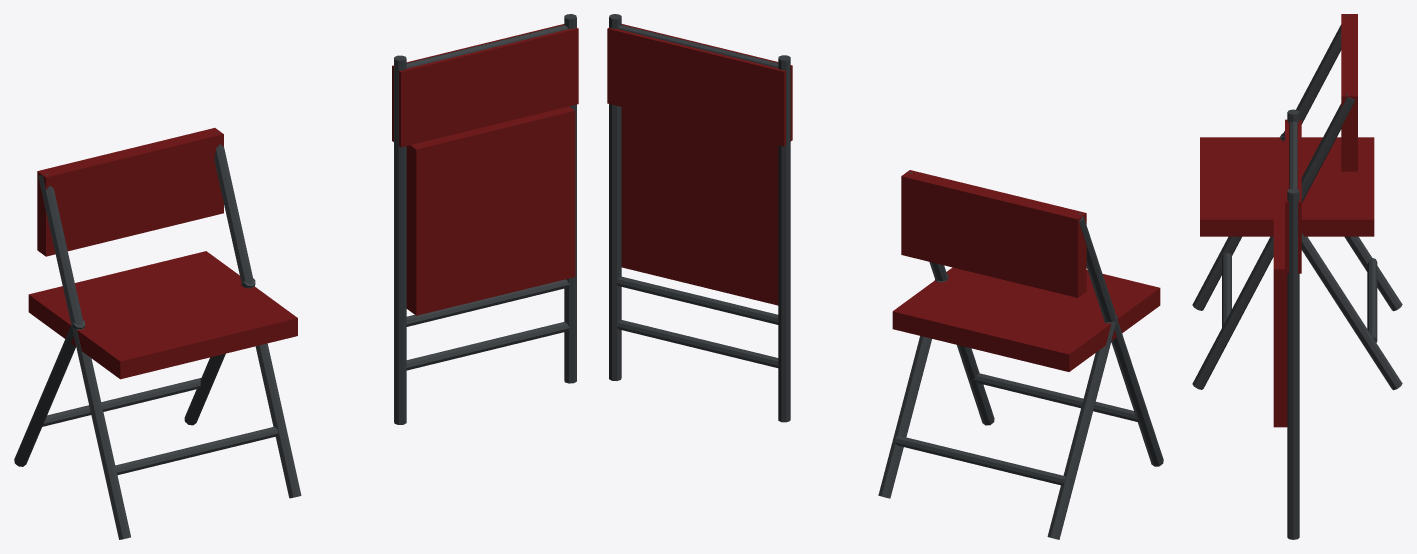
Rendered from silla_de_arena.fbx.
3 views of the same model, side by side, from view 1: azimuth 30°, elevation 25°; view 2: azimuth 150°, elevation 25°; view 3: azimuth 270°, elevation 25° (orthographic). The views are drawn at different scales.
Visible parts, largest first — view 1: silla_de_arena_Silla_Cerrada_Estructura, silla_de_arena_Silla_Abierta_Estructura; view 2: silla_de_arena_Silla_Cerrada_Estructura, silla_de_arena_Silla_Abierta_Estructura; view 3: silla_de_arena_Silla_Abierta_Estructura, silla_de_arena_Silla_Cerrada_Estructura.
Part boxes in pixels (x1=…): silla_de_arena_Silla_Cerrada_Estructura: x1=392, y1=14, x2=578, y2=424; silla_de_arena_Silla_Abierta_Estructura: x1=14, y1=128, x2=301, y2=539; silla_de_arena_Silla_Cerrada_Estructura: x1=607, y1=14, x2=792, y2=422; silla_de_arena_Silla_Abierta_Estructura: x1=878, y1=170, x2=1163, y2=539; silla_de_arena_Silla_Abierta_Estructura: x1=1192, y1=14, x2=1402, y2=390; silla_de_arena_Silla_Cerrada_Estructura: x1=1273, y1=109, x2=1301, y2=539.
Size of the model in its own units: 1.34 by 0.927 by 0.5061.
